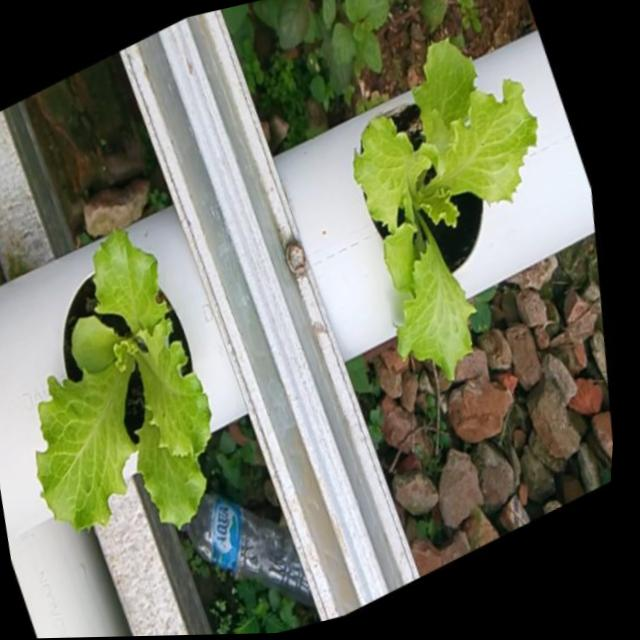Baby: (355, 27, 541, 371), (37, 215, 215, 525)
